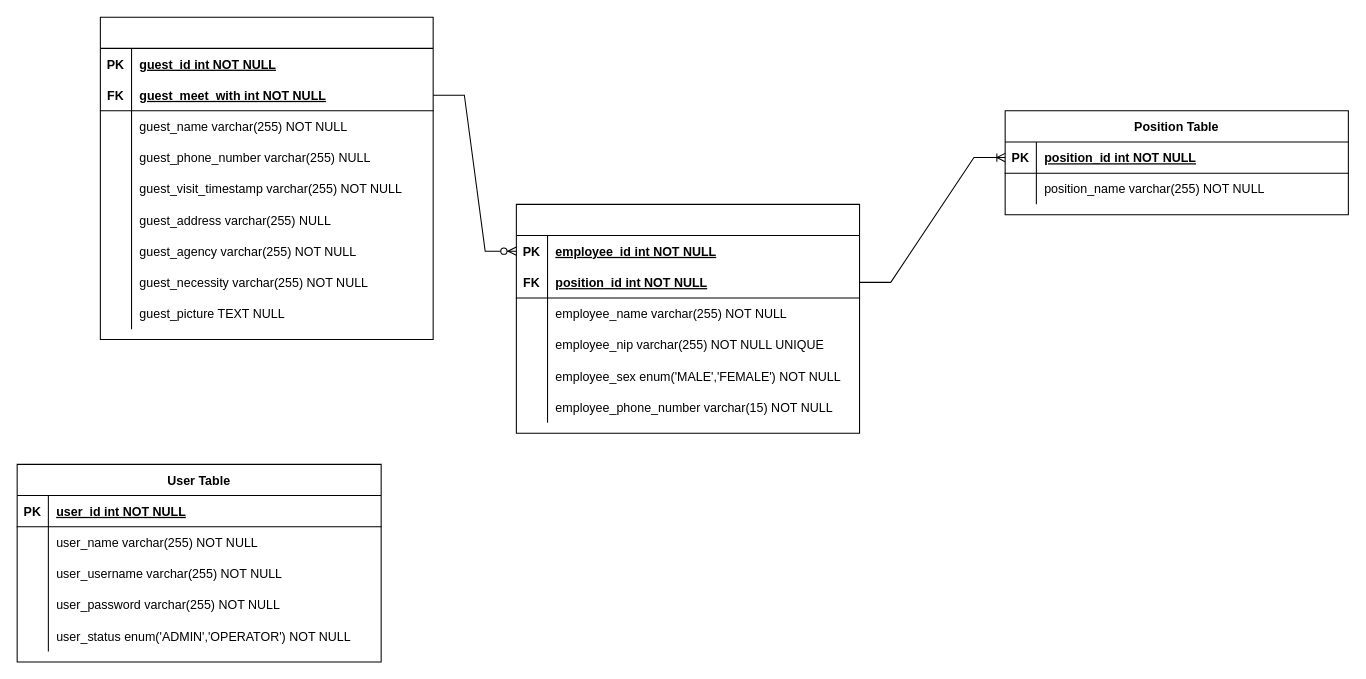
The diagram is 1366 pixels wide and 679 high, and some of its shapes have lost their labels. Here are the shapes that lost their labels. From the top down, the box of each, then its label:
(99, 16, 433, 340): Guest Table
(515, 203, 860, 433): Employees Table
